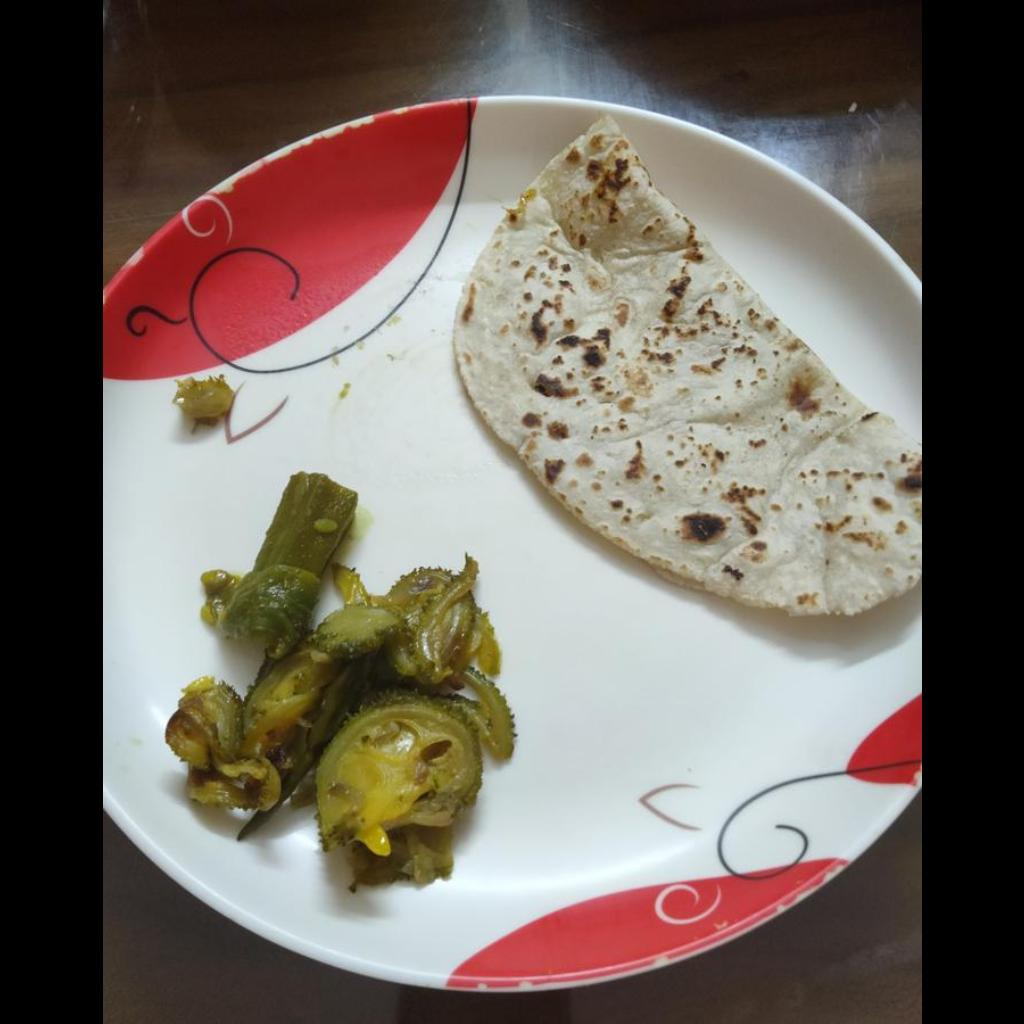ruti: (455, 111, 920, 622)
vegetable: (155, 473, 515, 889)
